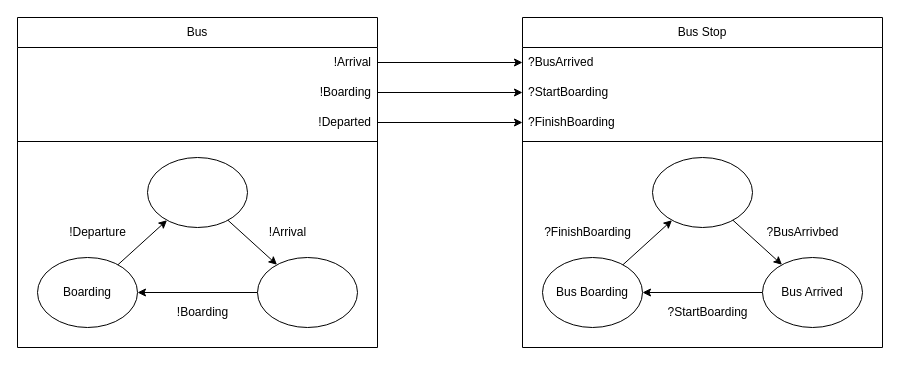
This 900x365 diagram has some shape labels left out. The centre of each missing label's shape, as x and y in pixels:
Arrived: the point at 307,292
Idle: the point at 702,192
Traveling: the point at 197,192
